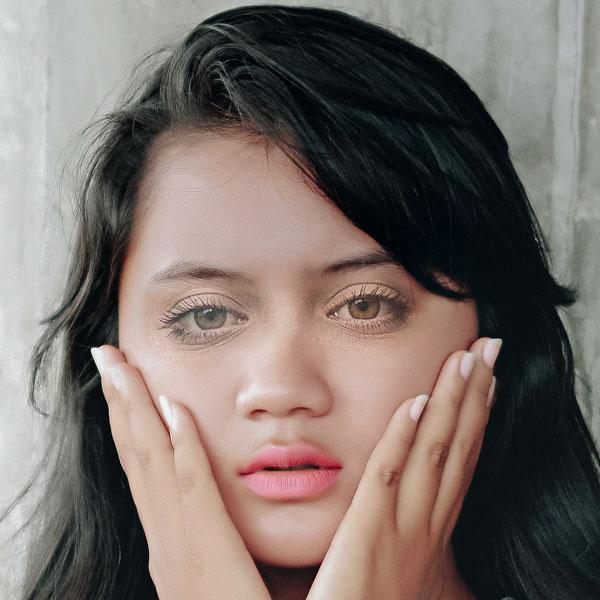Eyes: (155, 288, 255, 353), (316, 279, 416, 339)
